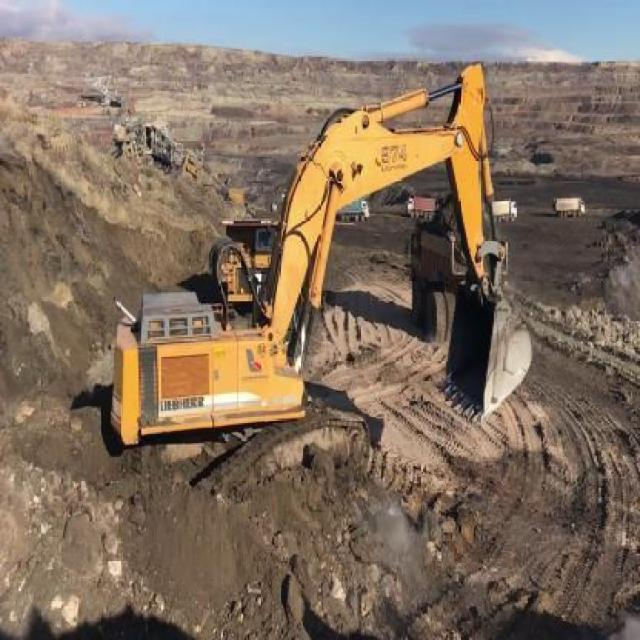dump_truck: (403, 191, 435, 217), (552, 194, 586, 218), (342, 196, 369, 219), (494, 200, 518, 222)
excavator: (91, 60, 535, 506)
